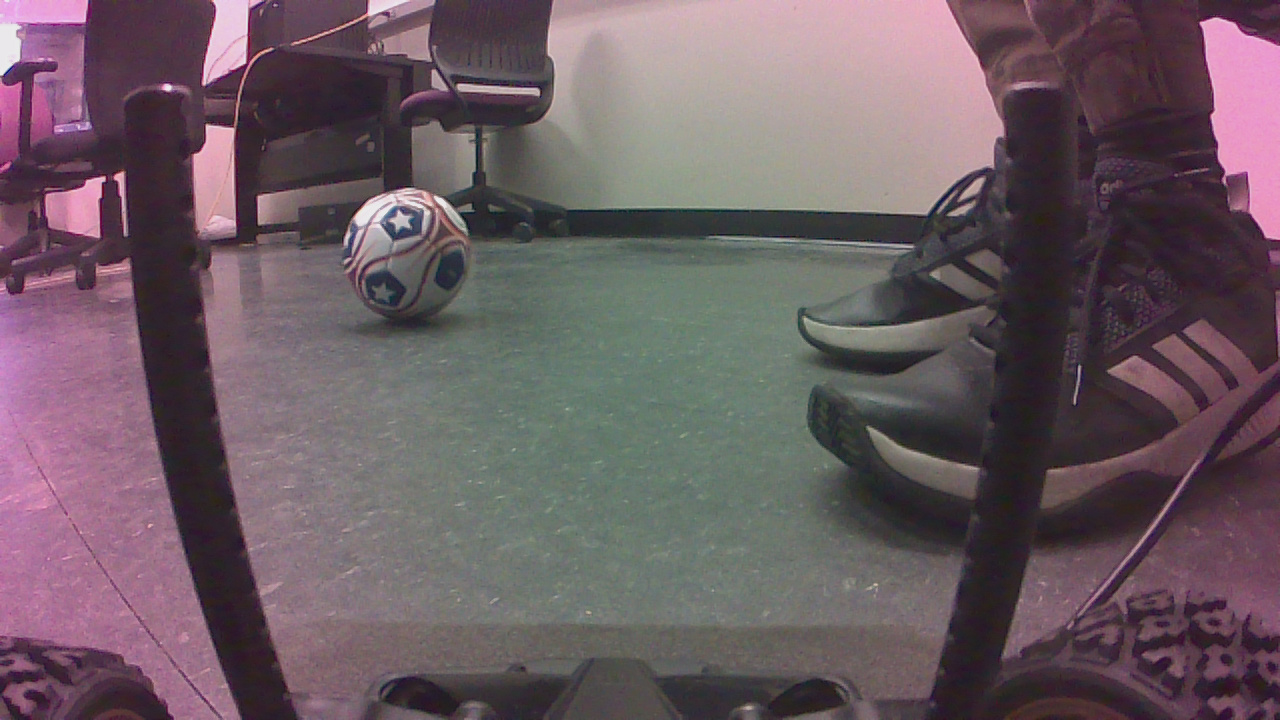ball: (343, 192, 481, 332)
